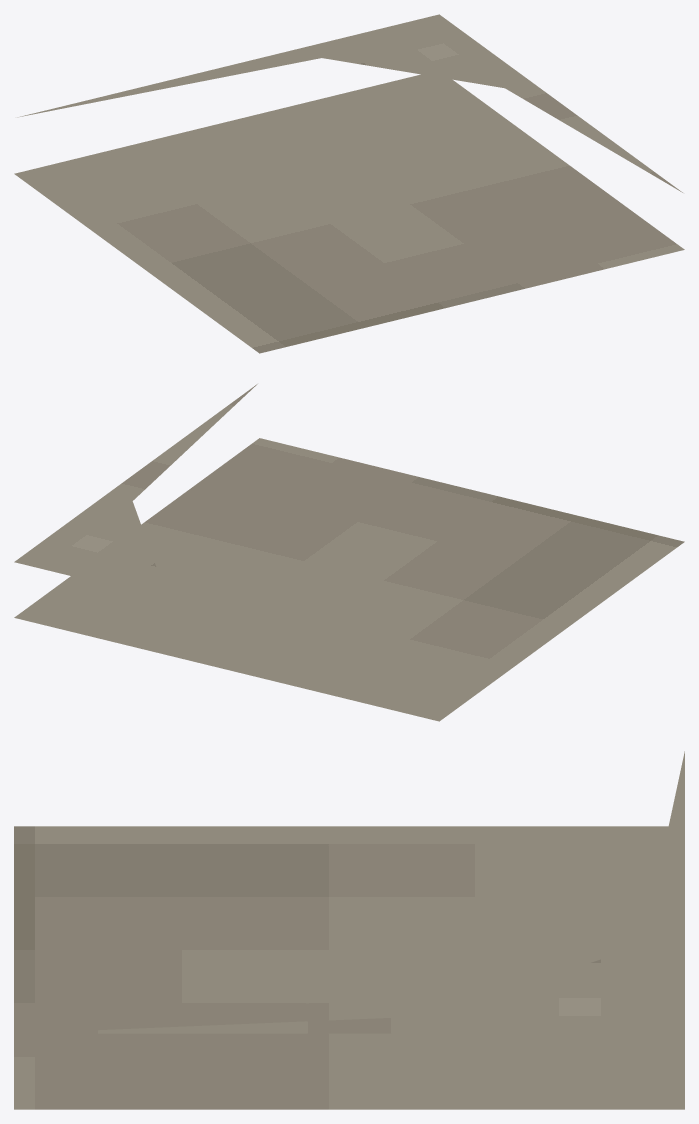
3 views of the same model, one above another, from view 1: azimuth 30°, elevation 25°; view 2: azimuth 150°, elevation 25°; view 3: azimuth 270°, elevation 25° (orthographic). The views are drawn at different scales.
Size of the model in its own units: 1 by 0.125 by 1.
1 material, 1 textured.
